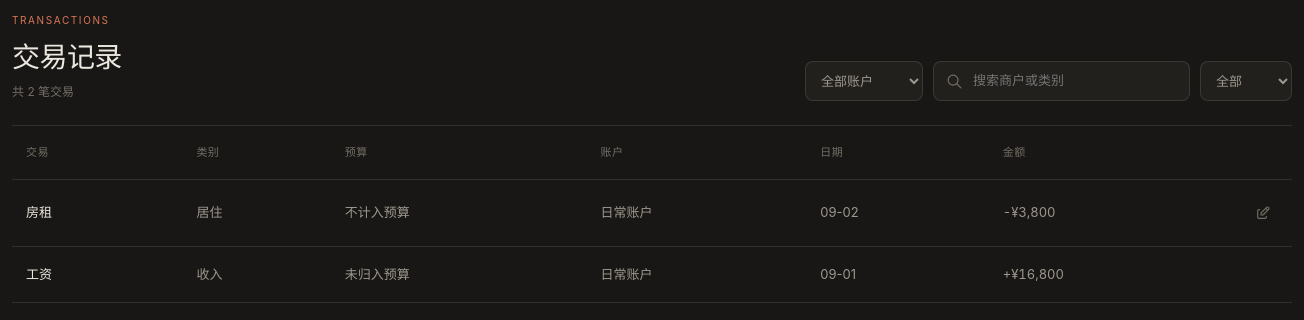
Finance supporting sections › filters transaction rows by merchant text
The image size is (1304, 320).
Type "房租" into the search field named "搜索交易" at point(1074, 81), box 971,70 -> 1177,92
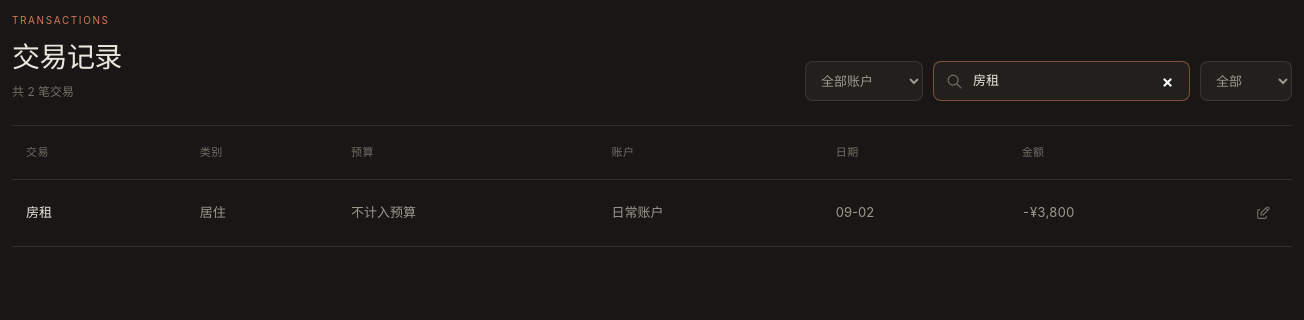
expect the text "房租" is shown: met, box 26,203 -> 52,222
expect the text "工资" is gone: met
